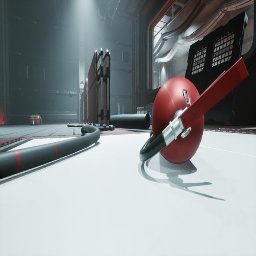FireExtinguisher ]: (139, 57, 249, 164)
FirstAidBox ,: (30, 113, 40, 125)
